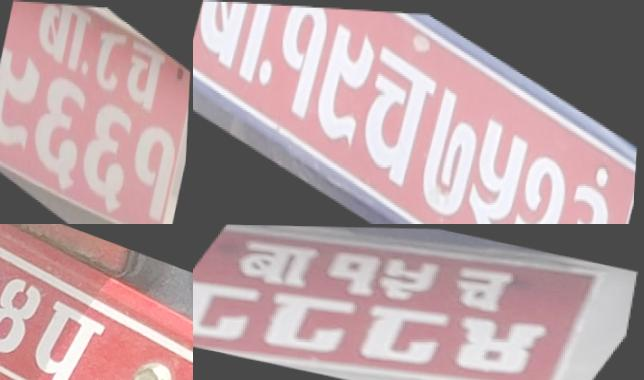1: (263, 4, 336, 128), (126, 112, 179, 224), (306, 244, 401, 300)
2: (505, 128, 580, 224)
3: (549, 156, 629, 224)
4: (429, 308, 567, 380), (0, 264, 55, 361)
5: (460, 99, 537, 224), (362, 252, 460, 308)
6: (30, 62, 94, 194), (77, 88, 140, 218)
7: (413, 74, 492, 224)
8: (240, 286, 373, 360), (339, 298, 470, 373), (193, 273, 282, 348), (90, 14, 129, 97)
9: (308, 6, 383, 154), (0, 37, 45, 159)
ba: (193, 0, 290, 94), (218, 233, 336, 292), (32, 2, 90, 77)
cha: (351, 28, 446, 200), (430, 259, 540, 318), (122, 30, 166, 116)
pa: (20, 290, 116, 380)
